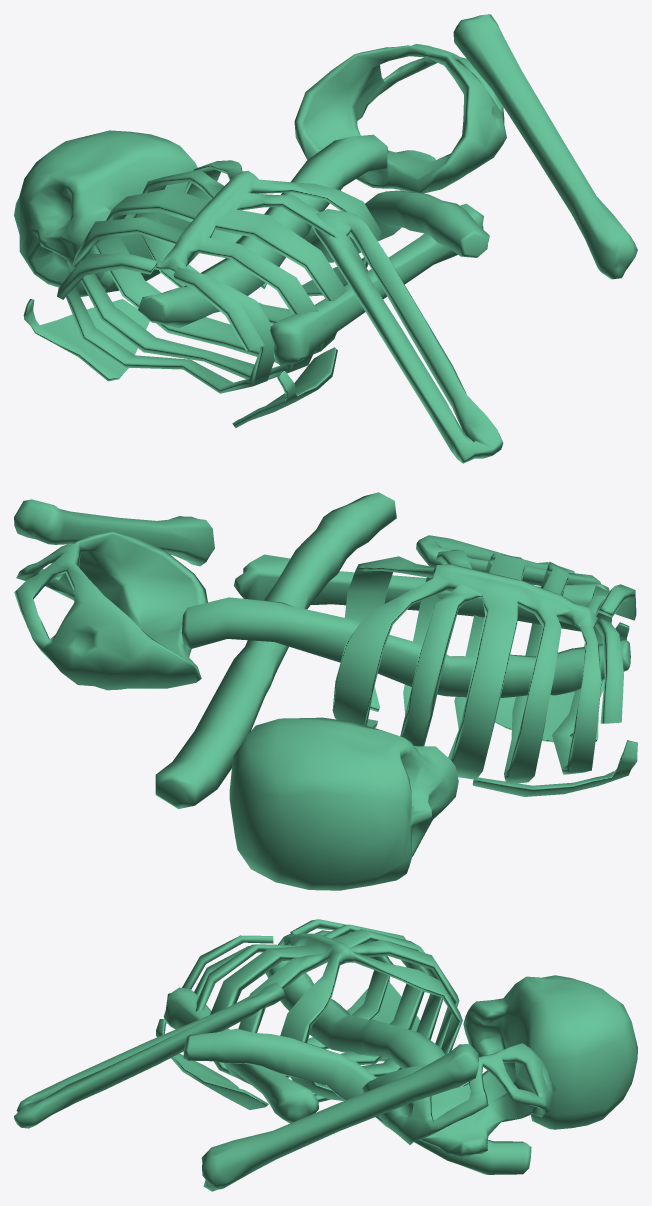
The model's file is Coffin_05B_Lod0.fbx.
3 renders of one model, top to bottom at view 1: azimuth 30°, elevation 25°; view 2: azimuth 150°, elevation 25°; view 3: azimuth 270°, elevation 25°, orthographic. The views are drawn at different scales.
Visible parts, largest first — view 1: Coffin_05B_Lod0; view 2: Coffin_05B_Lod0; view 3: Coffin_05B_Lod0.
Boxes of the visible parts, bbox=[...] form: Coffin_05B_Lod0: bbox=[14, 14, 637, 463]; Coffin_05B_Lod0: bbox=[14, 492, 637, 890]; Coffin_05B_Lod0: bbox=[14, 919, 637, 1191].
Bounding box in the file's own units: 55.56 × 23.15 × 64.47.
